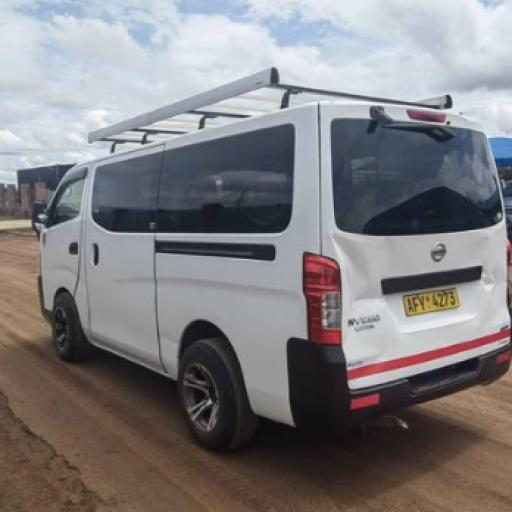number-plates: (401, 285, 460, 311)
